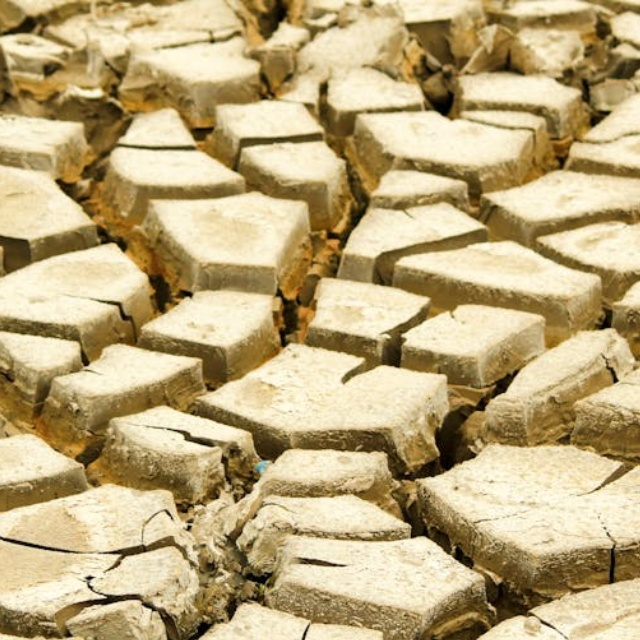细微裂纹: (0, 383, 349, 640), (0, 462, 250, 617)
网状裂隙: (0, 0, 640, 438), (115, 0, 555, 429), (283, 270, 640, 640), (521, 311, 640, 640)
